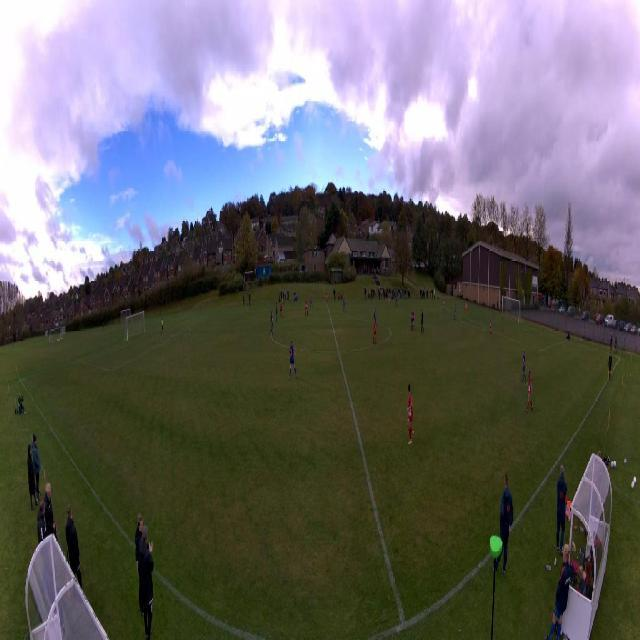ball: (465, 305, 466, 309)
player: (406, 384, 415, 446), (289, 339, 297, 380), (526, 368, 533, 413), (372, 318, 377, 344), (522, 350, 526, 382), (270, 312, 274, 336), (421, 309, 425, 333), (305, 298, 309, 316), (279, 301, 283, 319), (413, 307, 416, 331), (342, 296, 346, 313), (464, 301, 468, 317), (275, 303, 278, 323), (411, 310, 414, 330), (489, 316, 492, 336), (310, 295, 313, 310), (374, 306, 377, 321), (395, 295, 398, 309), (326, 290, 329, 304), (161, 317, 163, 336), (454, 302, 456, 320), (388, 295, 391, 307), (443, 296, 445, 313)
